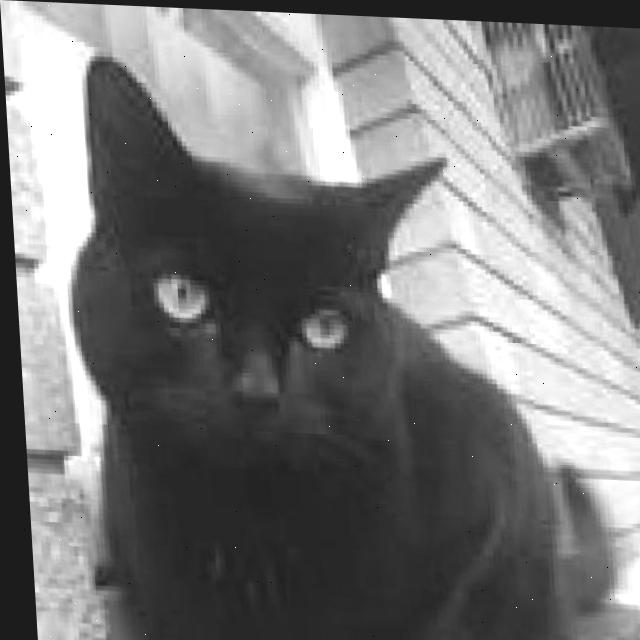Cat: (48, 50, 623, 640)
